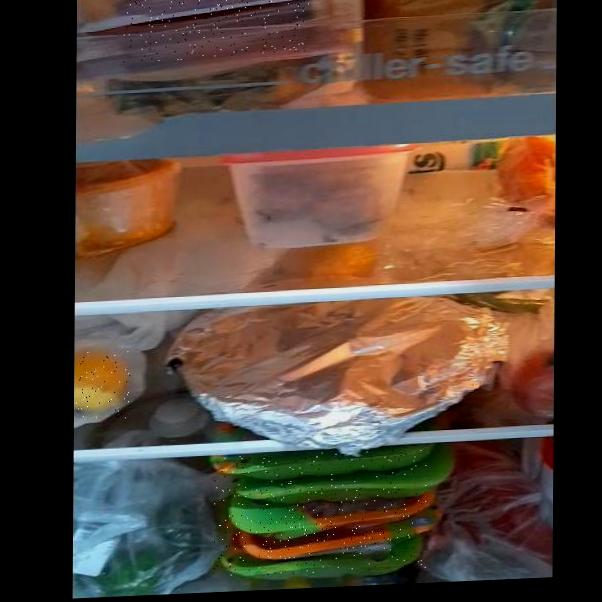chicken: (214, 447, 427, 577)
lemon: (75, 347, 130, 421)
salami: (123, 0, 309, 62)
